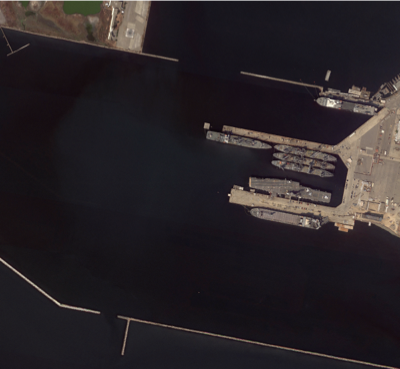boat: (249, 207, 322, 230), (314, 96, 375, 116), (206, 131, 272, 149), (274, 144, 337, 162), (271, 160, 334, 177), (273, 152, 335, 169)
